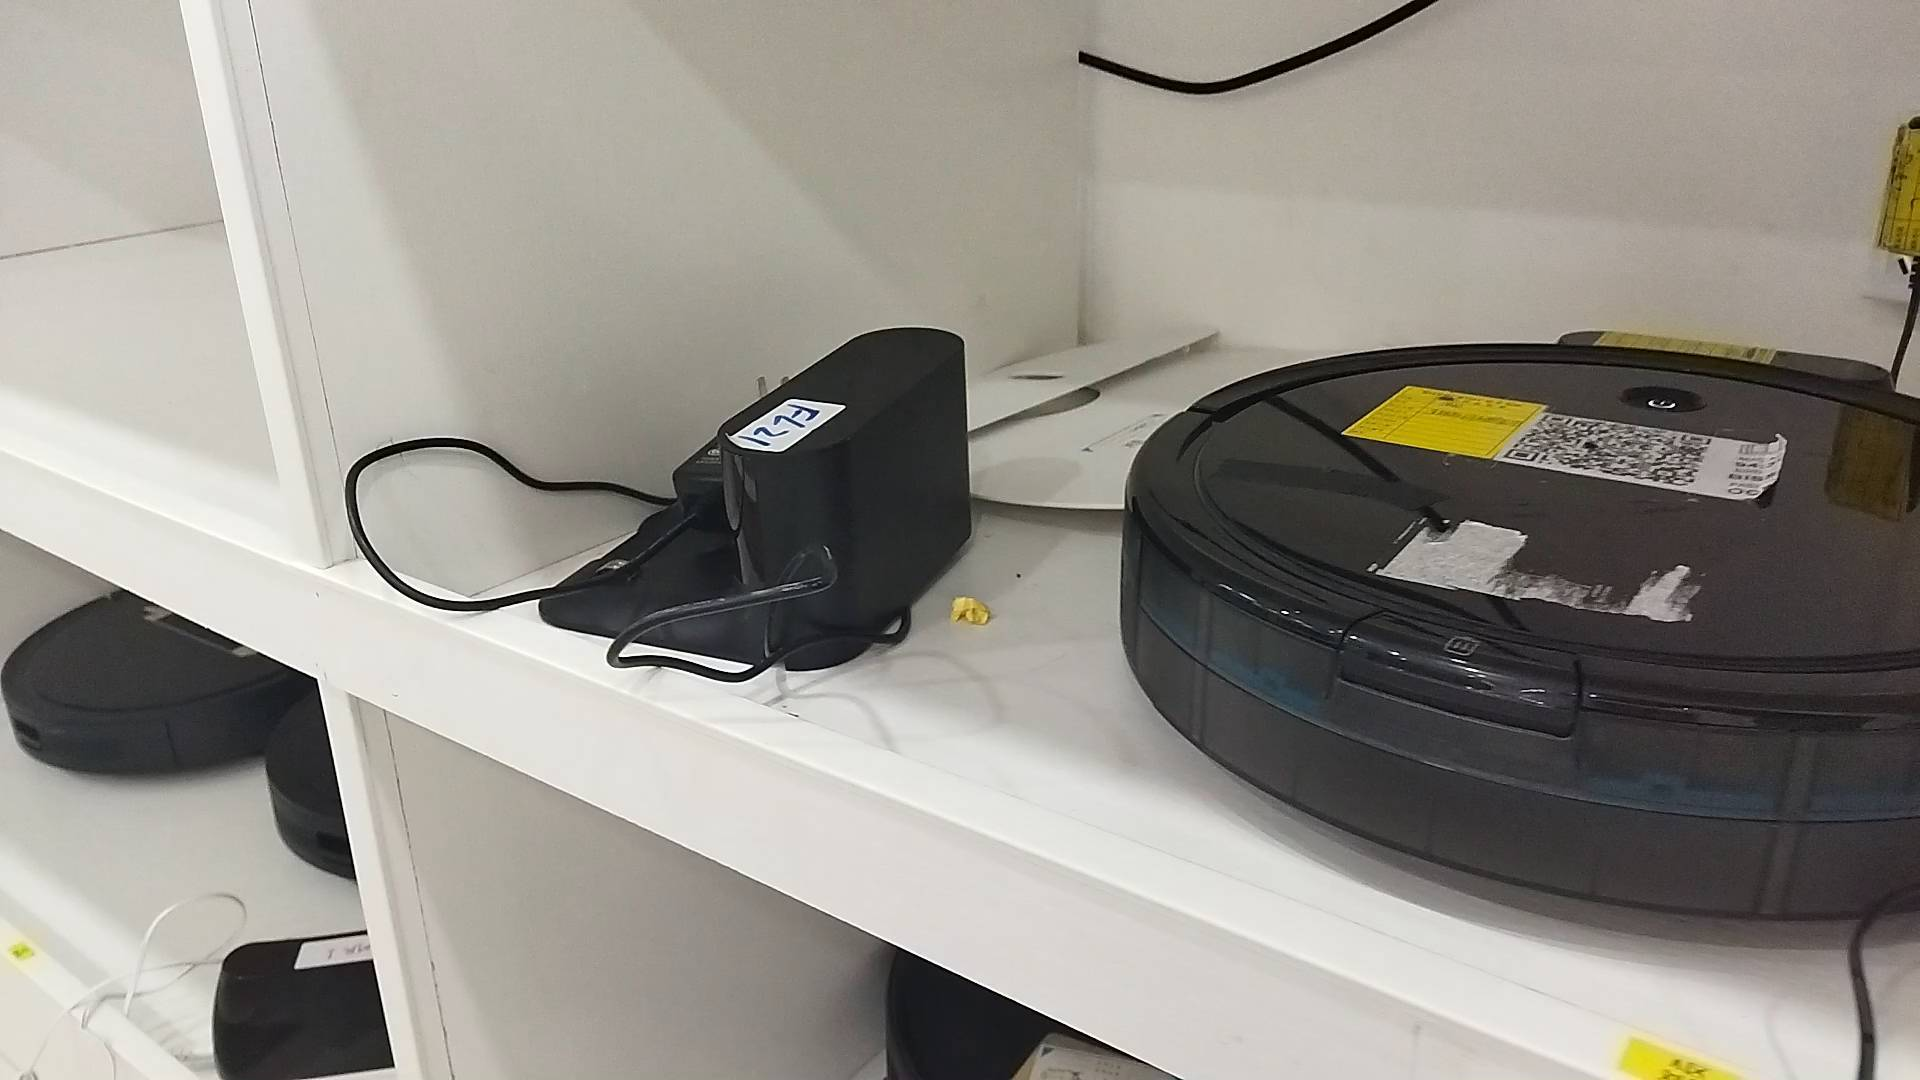recharge seat: (545, 328, 976, 669)
